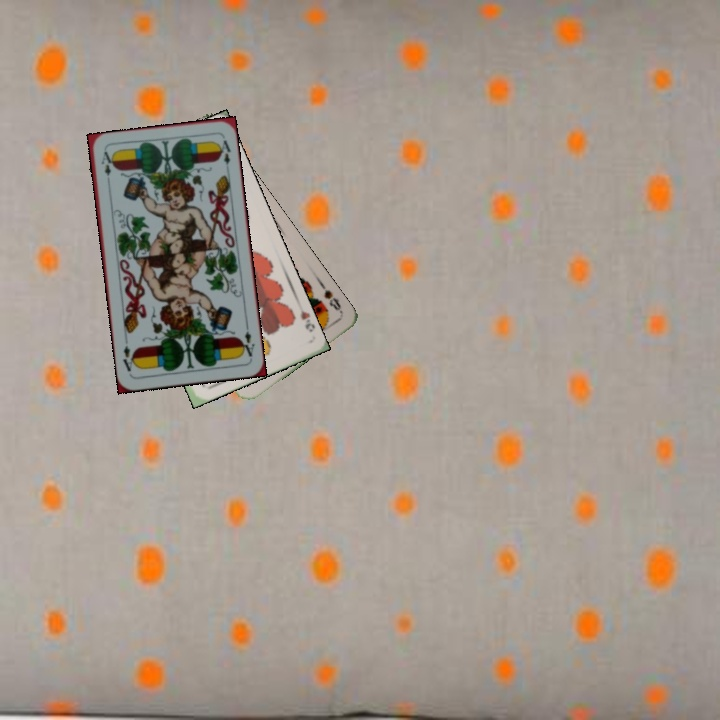EA: (237, 320, 257, 359), (97, 147, 114, 188)
H9: (296, 306, 317, 335)
S8: (320, 286, 345, 316)
